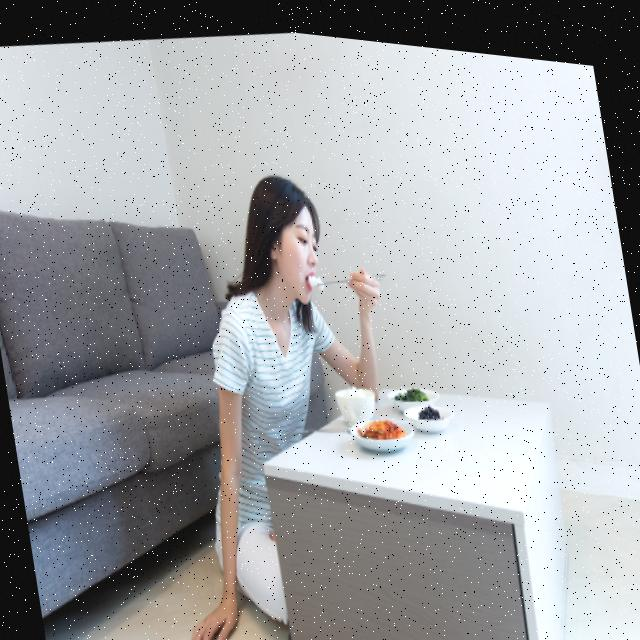eating-person: (104, 113, 503, 640)
